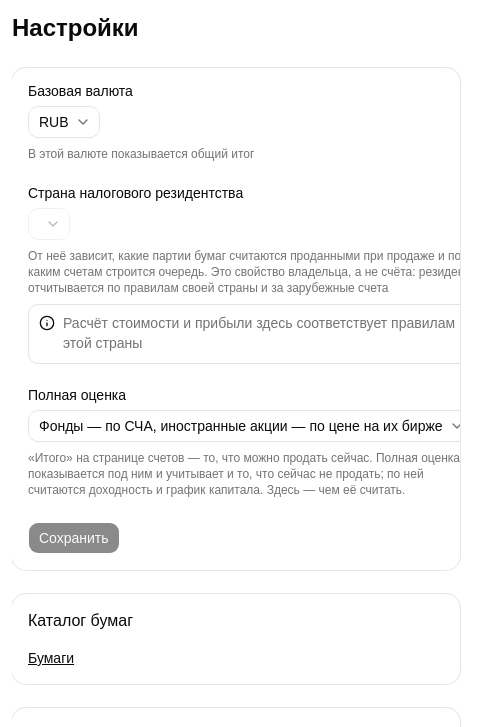
it: SettingsPage › enables Save once a different currency is selected
The image size is (478, 727).
Click the dropdown named "Базовая валюта".
click(64, 122)  # box [28,106,100,138]
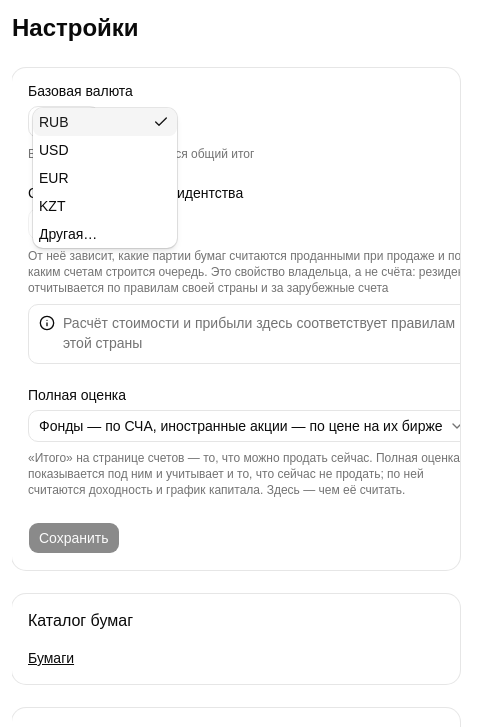
Click the option "USD".
click(54, 150)  # box [39,142,69,158]
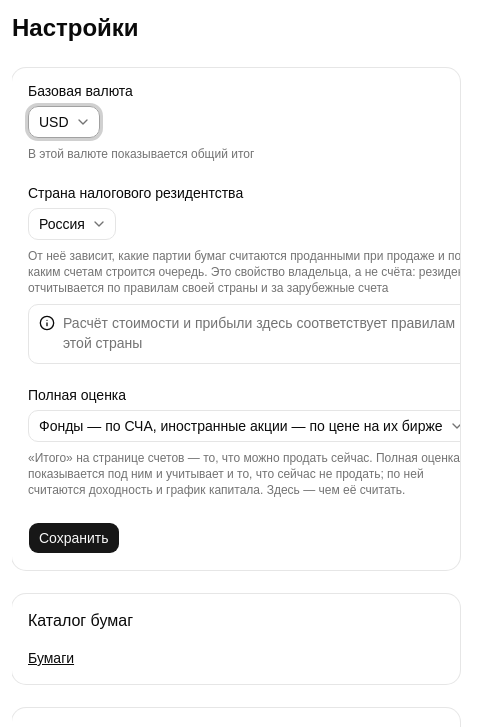
Expected: the button "Сохранить" is enabled, [28,522,120,554]
